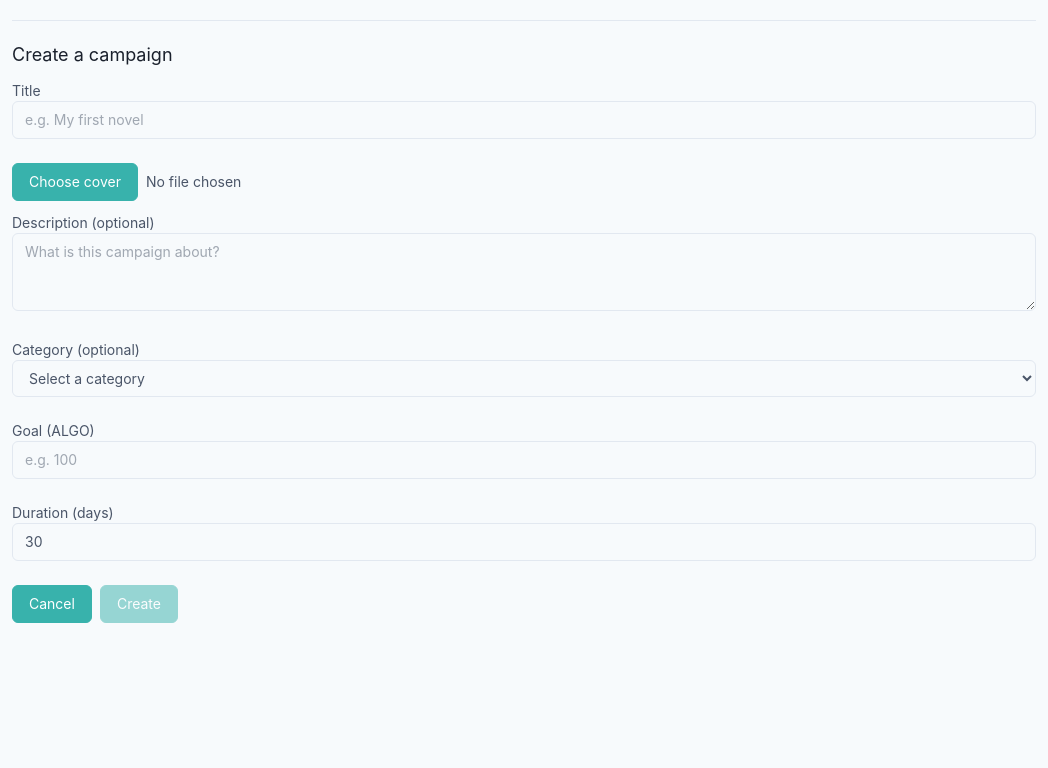
it: CreateCampaignForm › shows an error for a zero goal
Type "My first novel" into the field labelled "Title" at (524, 120), box [12,101,1036,139]
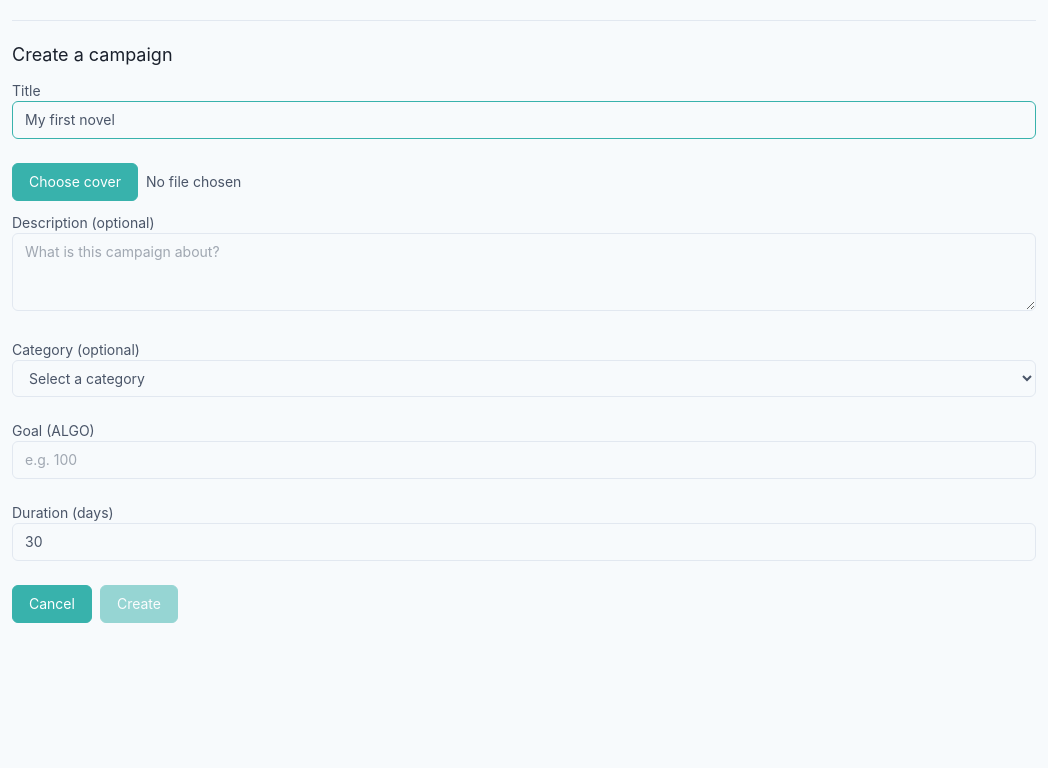
Type "0" into the number field with placeholder "e.g. 100" at (524, 460), box [12,441,1036,479]
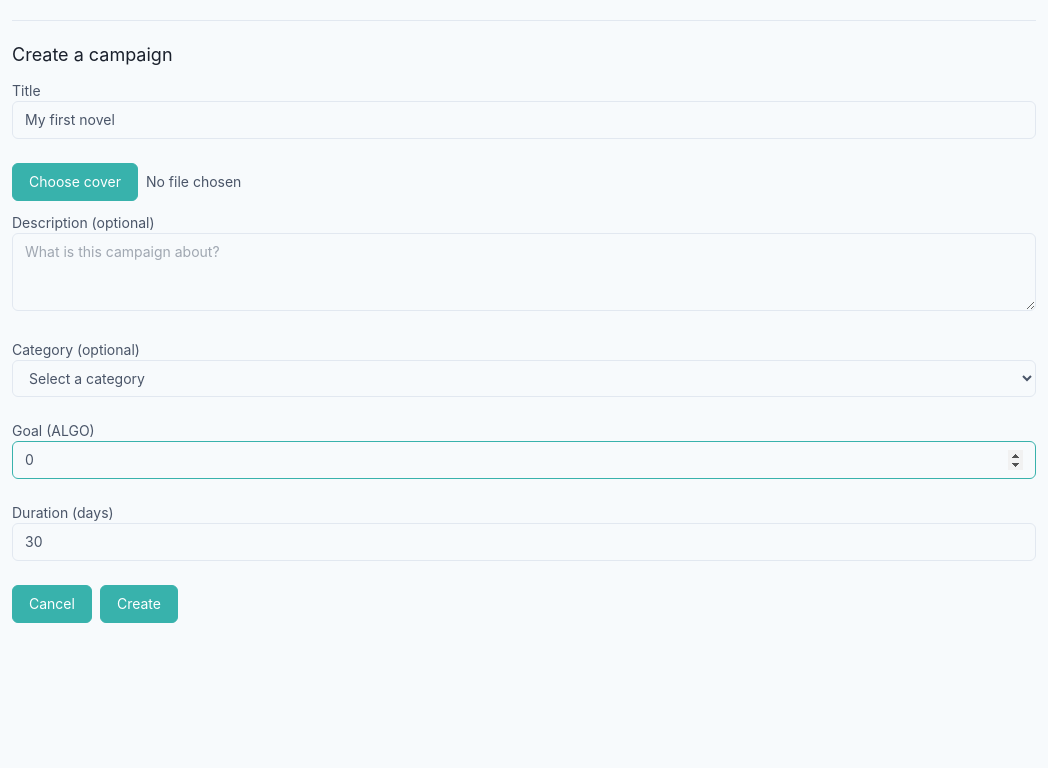
Click the button "Create" at (139, 604), box [100,585,178,623]
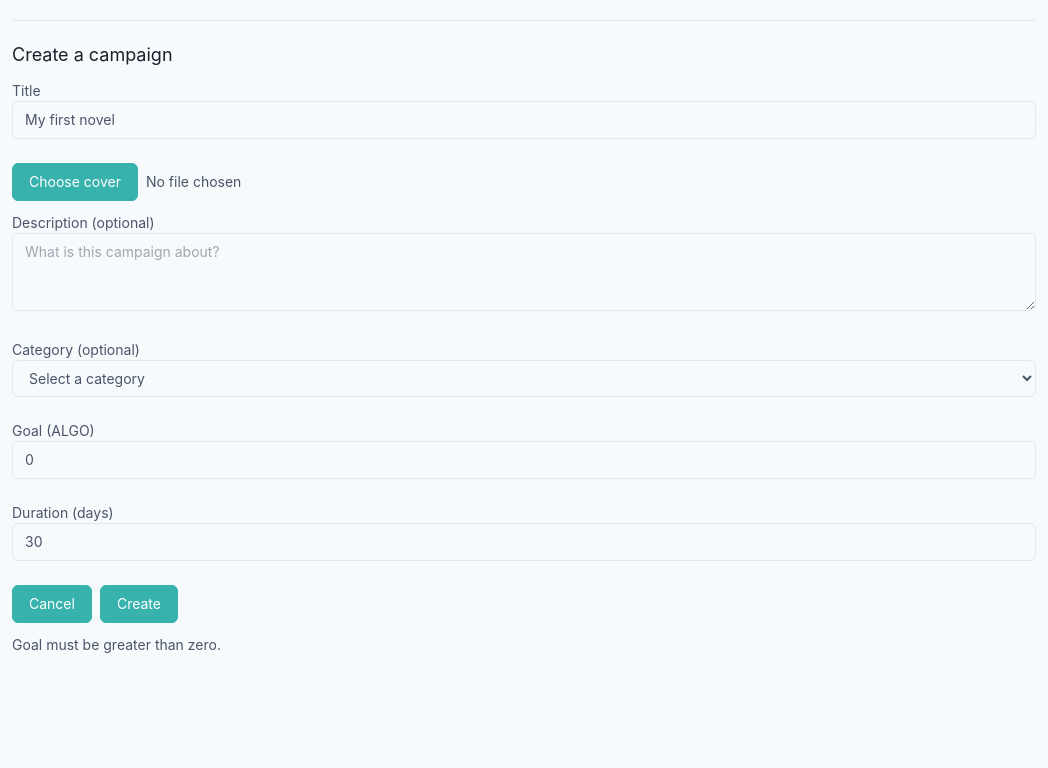
Expected: the text "Goal must be greater than zero." is shown, [12,636,221,653]
